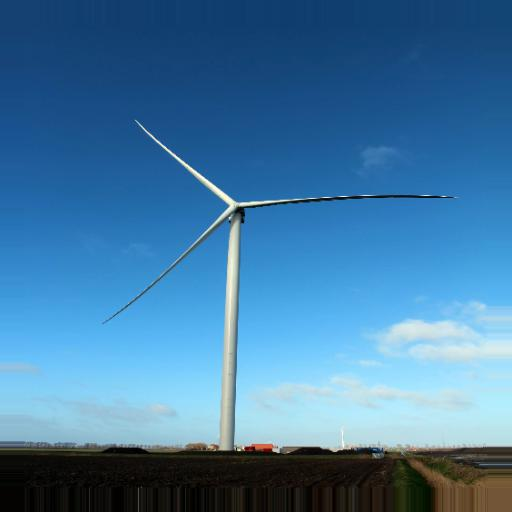wind turbine: (101, 119, 458, 454)
